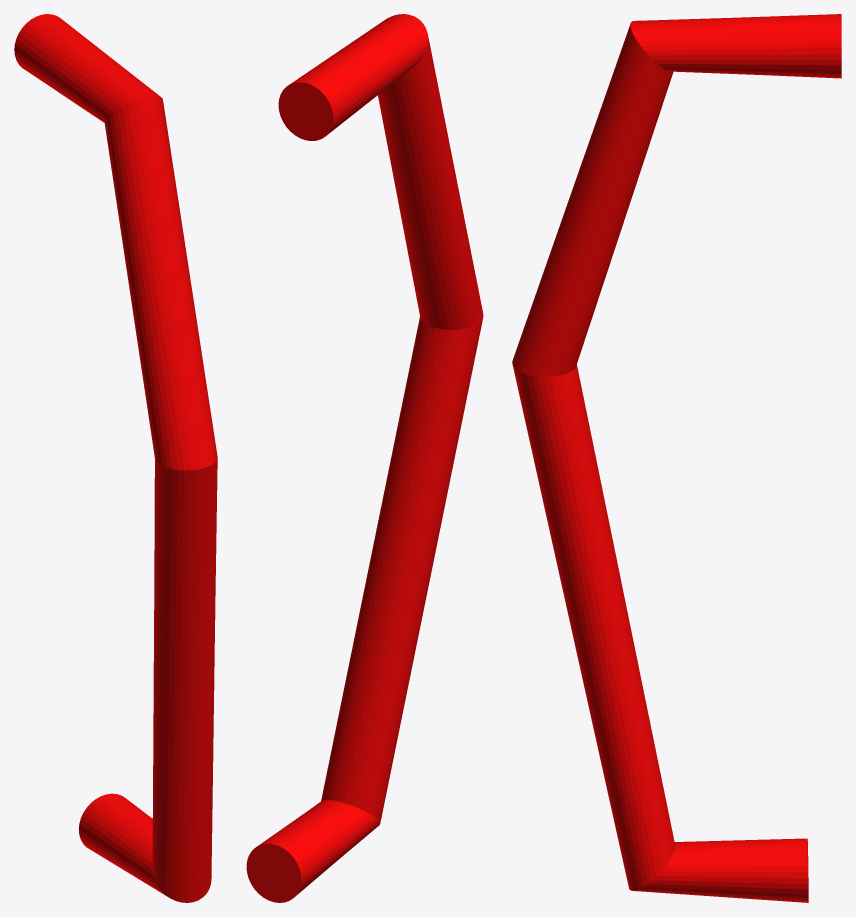
3 renders of one model, left to right at view 1: azimuth 30°, elevation 25°; view 2: azimuth 150°, elevation 25°; view 3: azimuth 270°, elevation 25°, orthographic. The views are drawn at different scales.
Visible parts, largest first — view 1: line9; view 2: line9; view 3: line9.
Boxes of the visible parts, x1,y1,x2,y2 form: line9: (14,14,217,902); line9: (246,14,483,902); line9: (512,14,841,902).
Bounding box in the file's own units: 33.9 × 264 × 91.86.
